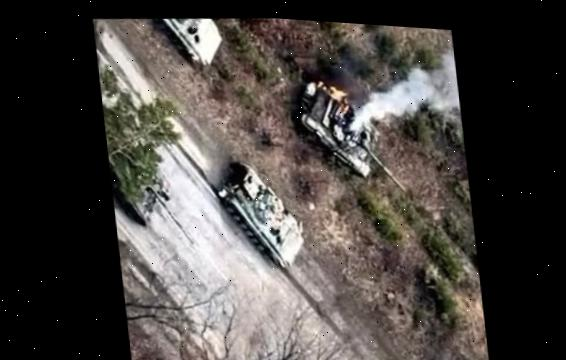armored_car: (209, 156, 306, 276), (137, 13, 229, 83)
tank: (287, 69, 410, 206)
